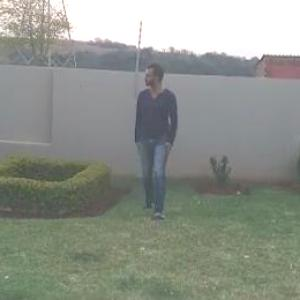follow: (125, 53, 178, 241)
